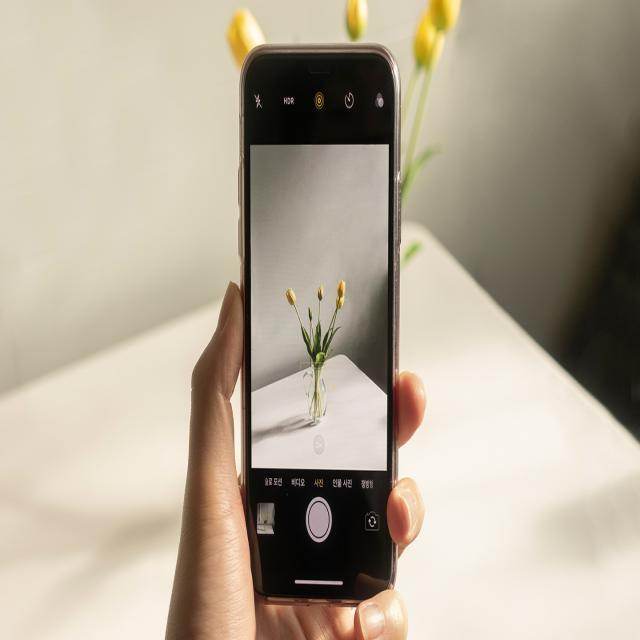Phone: (238, 39, 399, 610)
